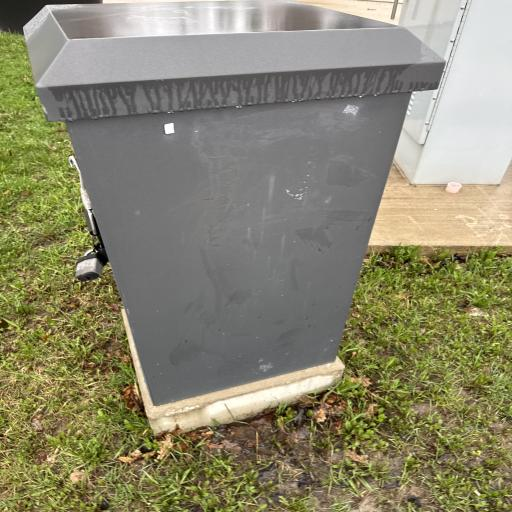Electrical Box: (21, 2, 448, 421)
